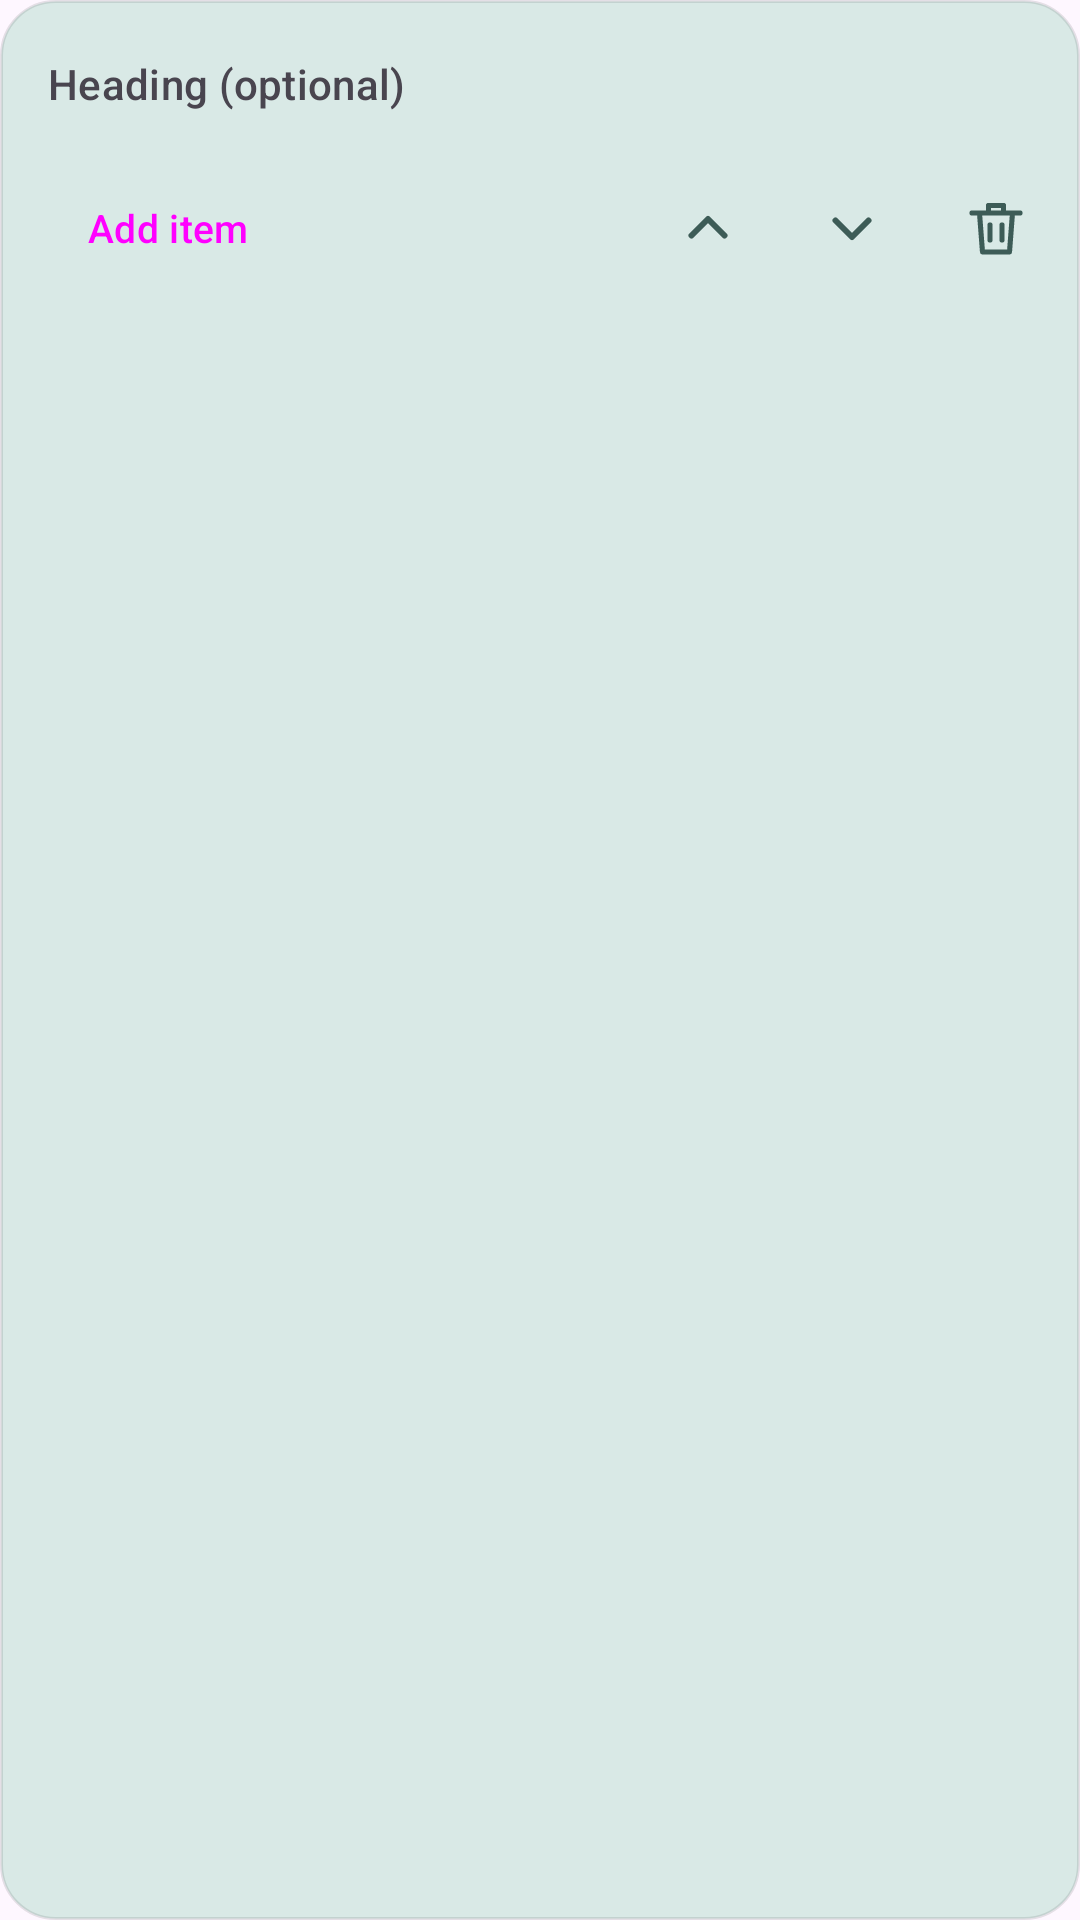

Named icons in this screenshot (1080×1920) and their centers, (x,y):
Delete block: (996,229)
Move block down: (852,228)
Move block up: (708,227)
